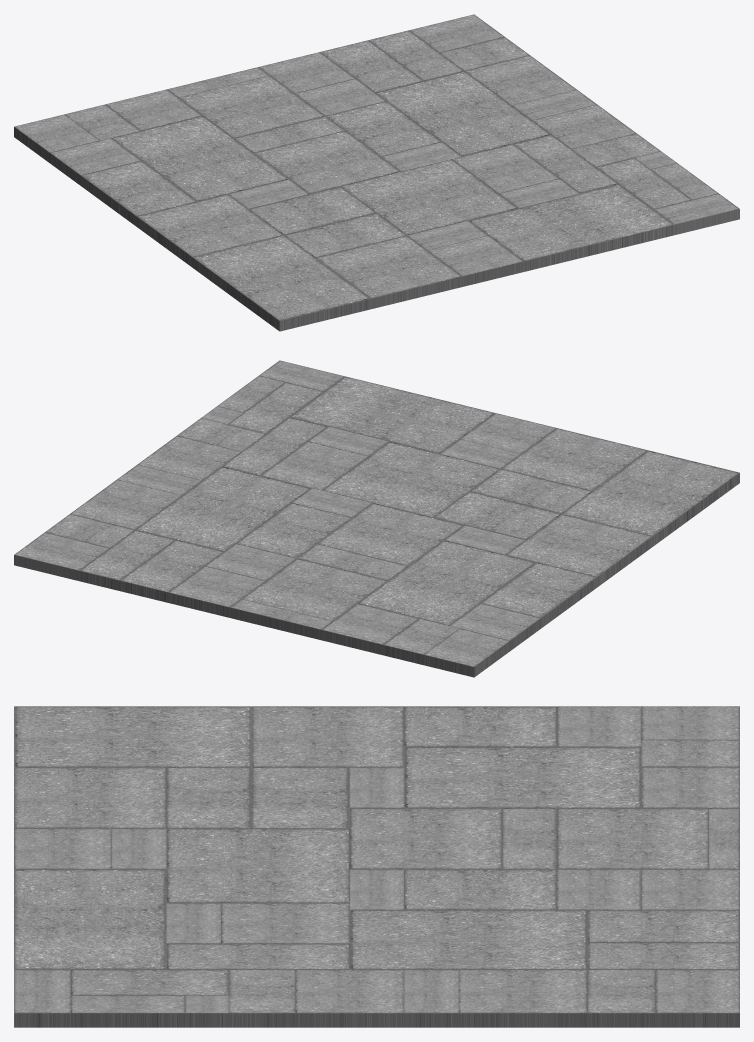
The model's file is block1.fbx.
The picture shows the model from 3 angles, top to bottom: view 1: azimuth 30°, elevation 25°; view 2: azimuth 150°, elevation 25°; view 3: azimuth 270°, elevation 25°; orthographic projection. The views are drawn at different scales.
Parts seen in each view (by area): view 1: polySurface32, polySurface25, polySurface38, polySurface34, polySurface24, polySurface10, polySurface7, polySurface39, polySurface6, polySurface17, polySurface42, polySurface36 (+27 smaller); view 2: polySurface25, polySurface32, polySurface38, polySurface34, polySurface24, polySurface7, polySurface39, polySurface10, polySurface6, polySurface17, polySurface42, polySurface36 (+27 smaller); view 3: polySurface32, polySurface38, polySurface25, polySurface34, polySurface24, polySurface10, polySurface39, polySurface6, polySurface7, polySurface3, polySurface42, polySurface8 (+28 smaller).
Boxes of the visible parts, x1,y1,x2,y2 form: polySurface32: (469,184,674,271); polySurface25: (193,235,370,331); polySurface38: (111,116,289,201); polySurface34: (376,71,552,156); polySurface24: (341,159,518,235); polySurface10: (315,236,462,309); polySurface7: (136,194,282,267); polySurface39: (254,130,401,194); polySurface6: (179,75,324,138); polySurface17: (81,161,197,226); polySurface42: (326,101,441,156); polySurface36: (248,187,375,235); polySurface25: (563,450,739,546); polySurface32: (289,376,494,453); polySurface38: (357,540,535,625); polySurface34: (135,465,311,551); polySurface24: (323,441,500,517); polySurface7: (507,514,653,587); polySurface39: (317,502,463,565); polySurface10: (501,428,648,490); polySurface6: (241,558,387,621); polySurface17: (481,562,596,628); polySurface42: (236,502,351,558); polySurface36: (434,491,562,539); polySurface32: (14,869,165,969); polySurface38: (404,747,641,808); polySurface25: (14,706,250,766); polySurface34: (348,910,587,969); polySurface24: (165,828,347,903); polySurface10: (14,766,165,828); polySurface39: (348,808,501,869); polySurface6: (557,808,708,869); polySurface7: (251,706,404,766); polySurface3: (459,970,587,1027); polySurface42: (404,869,556,910); polySurface8: (296,970,404,1027).
Size of the model in its own units: 7.64 by 0.1655 by 7.64.
